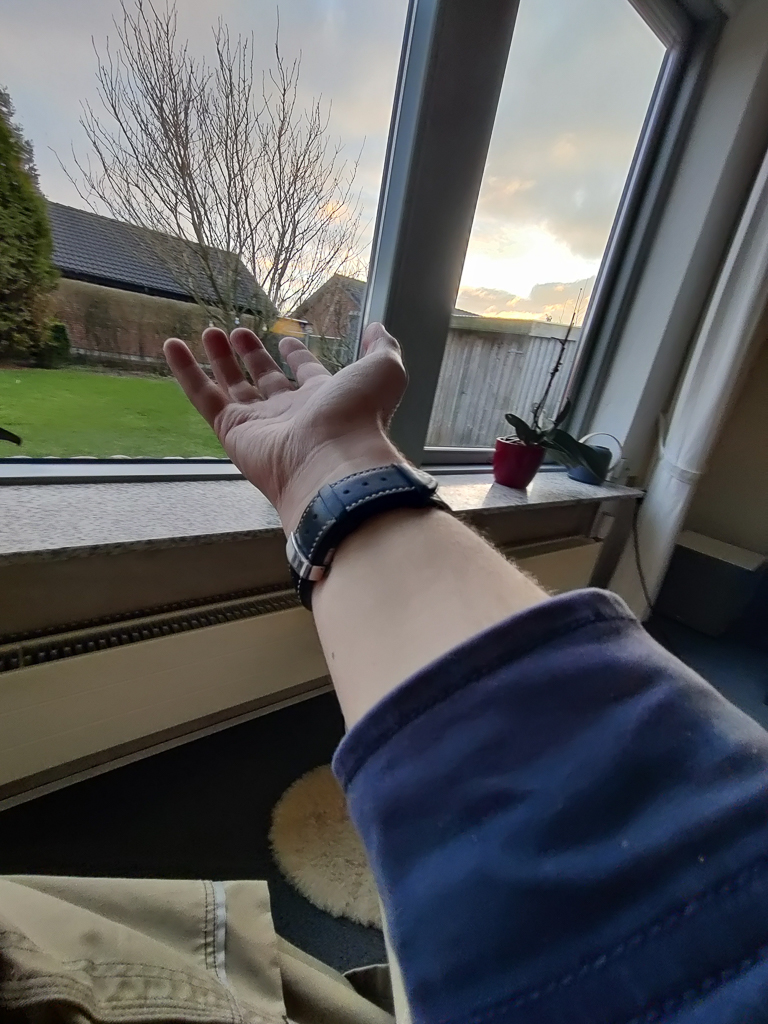Humanoid: (0, 310, 768, 1024)
